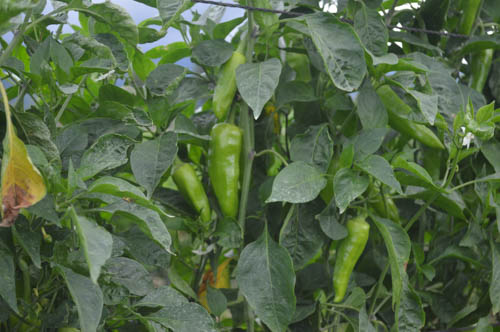ChiliPepper: (374, 88, 451, 150), (329, 220, 370, 308), (203, 124, 242, 213), (212, 54, 241, 125), (174, 164, 211, 218)
